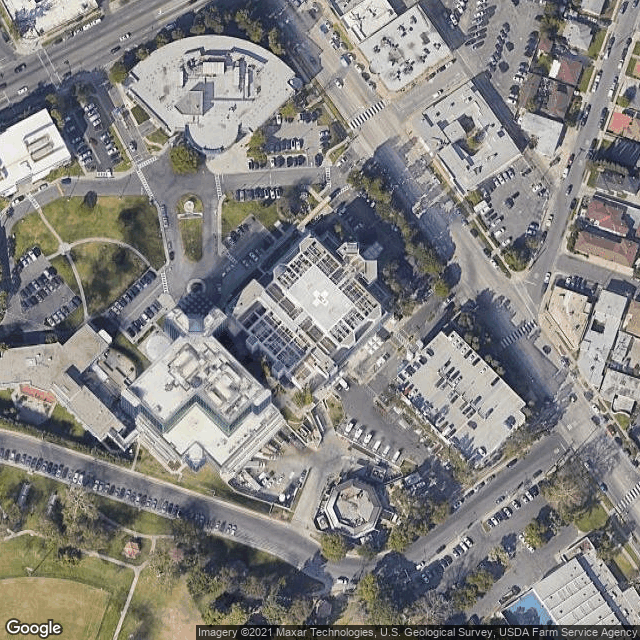Helipad: (306, 284, 335, 314)
